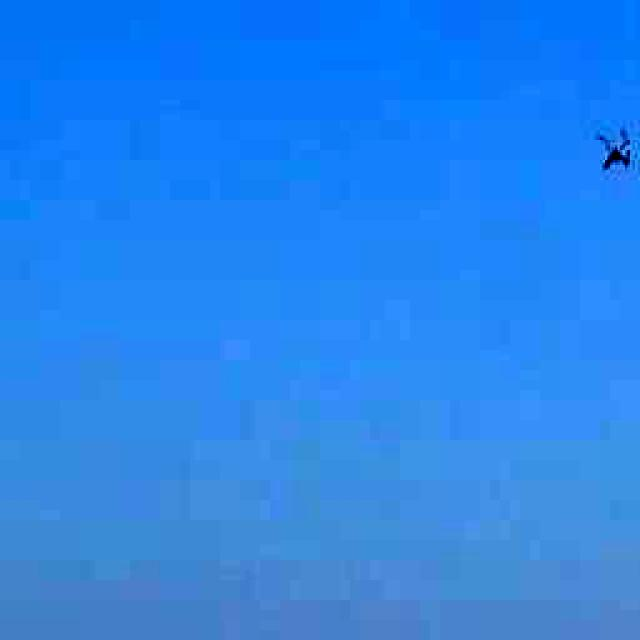bird: (582, 119, 640, 186)
